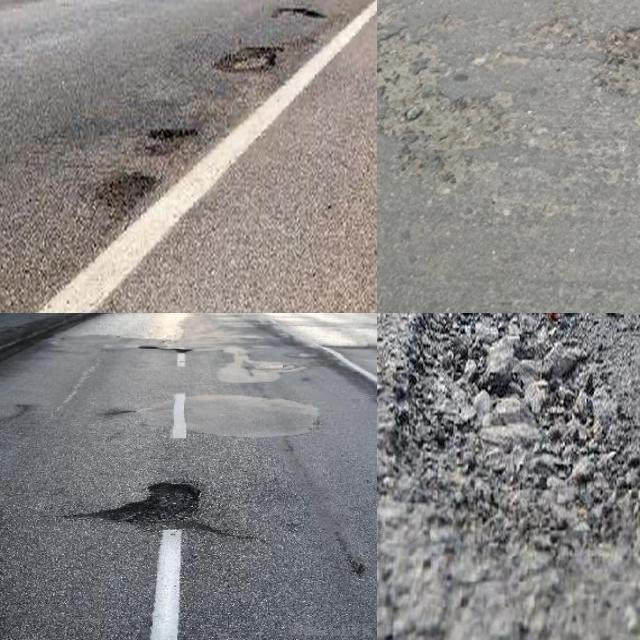Lubang: (392, 313, 640, 540), (94, 483, 219, 533), (598, 28, 640, 92), (205, 42, 278, 78), (104, 171, 150, 205), (145, 127, 192, 157), (275, 0, 331, 25)
